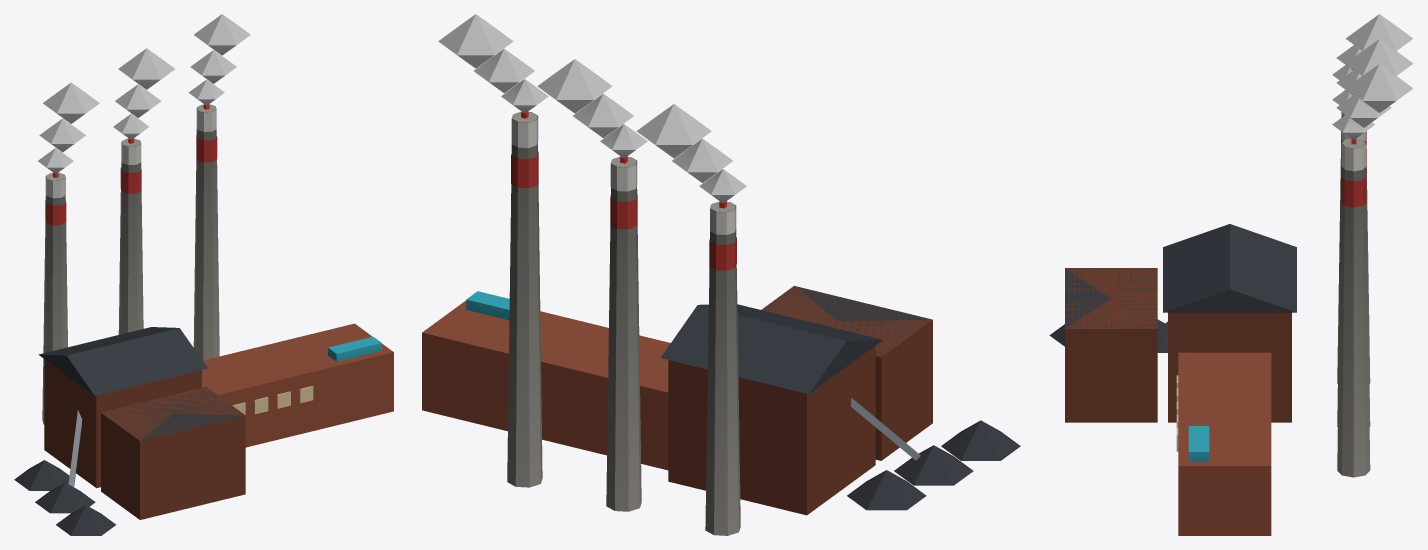
Rendered from plant_steam_l3.fbx.
The picture shows the model from 3 angles, left to right: view 1: azimuth 30°, elevation 25°; view 2: azimuth 150°, elevation 25°; view 3: azimuth 270°, elevation 25°; orthographic projection. The views are drawn at different scales.
Visible parts, largest first — view 1: plant_steam_l3; view 2: plant_steam_l3; view 3: plant_steam_l3.
Part boxes in pixels (x1,y1,x2,y2): plant_steam_l3: (14, 14, 393, 535); plant_steam_l3: (422, 14, 1020, 535); plant_steam_l3: (1049, 14, 1413, 535).
Bounding box in the file's own units: 98.06 × 90.28 × 70.6.
